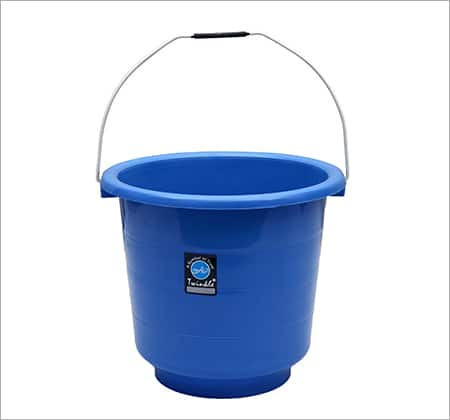Rec_Plastic: (81, 25, 366, 401)
